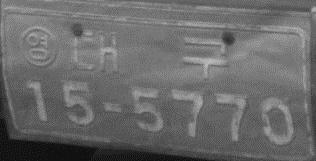-: (98, 95, 126, 119)
0: (258, 95, 294, 146)
1: (22, 78, 52, 122)
5: (61, 79, 95, 126), (130, 86, 164, 133)
7: (170, 88, 203, 137), (214, 92, 246, 142)
대구_D: (68, 28, 228, 77)
영: (19, 24, 60, 68)
